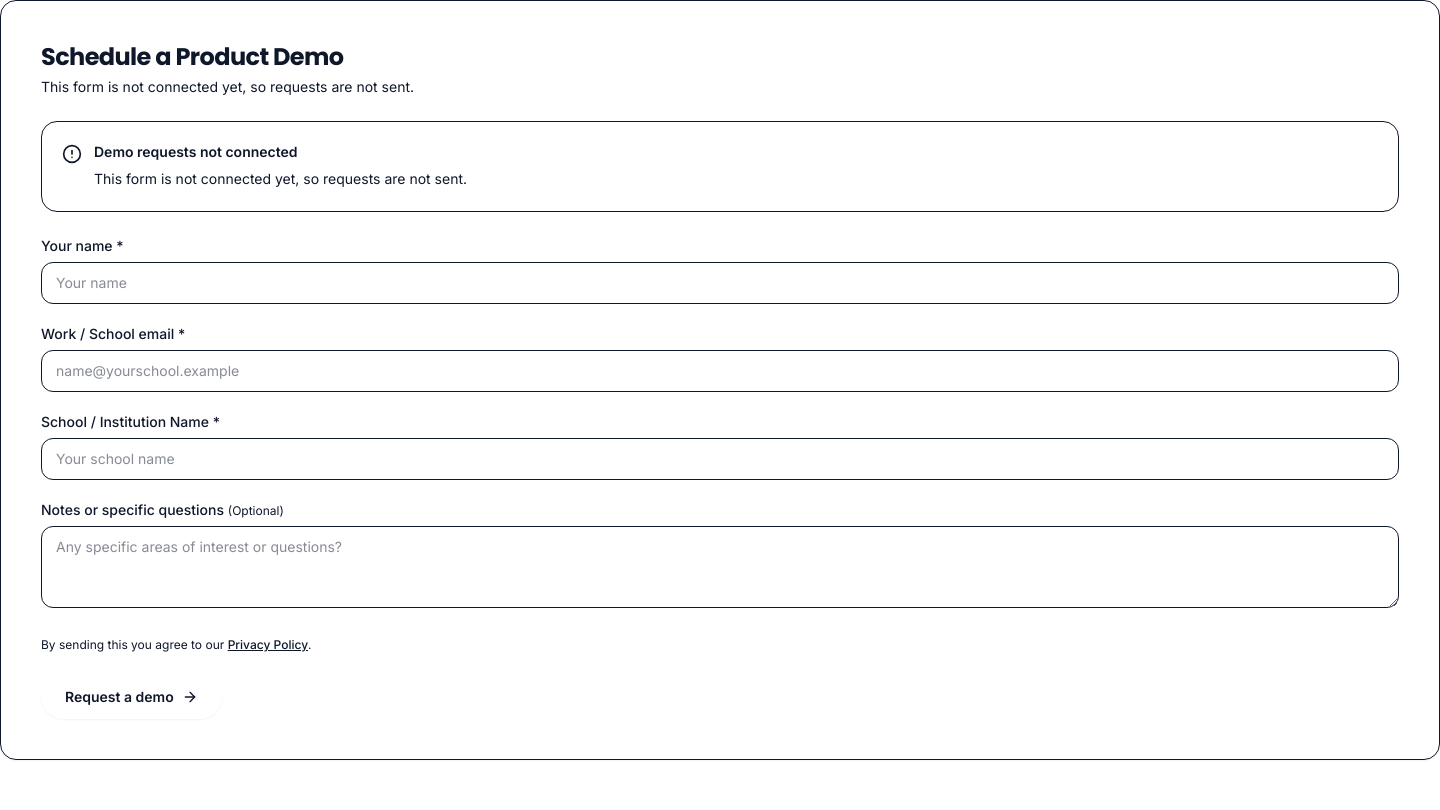
it: Lead Forms Unit Tests (Contact & Demo) › Flag OFF (siteConfig.hasLeadBackend = false) › renders pruned demo form (without phone, city, student count, preferred time)
The width and height of the screenshot is (1440, 810).
Expected: the heading "Schedule a Product Demo" is shown, top-left (41, 40), bottom-right (344, 73)
Expected: the field labelled "Work / School email *" is shown, top-left (41, 350), bottom-right (1399, 392)
// Submit valid demo request
Type "Principal Gupta" into the field labelled "Your name *".
click(720, 283); type("Principal Gupta")  # box top-left (41, 262), bottom-right (1399, 304)
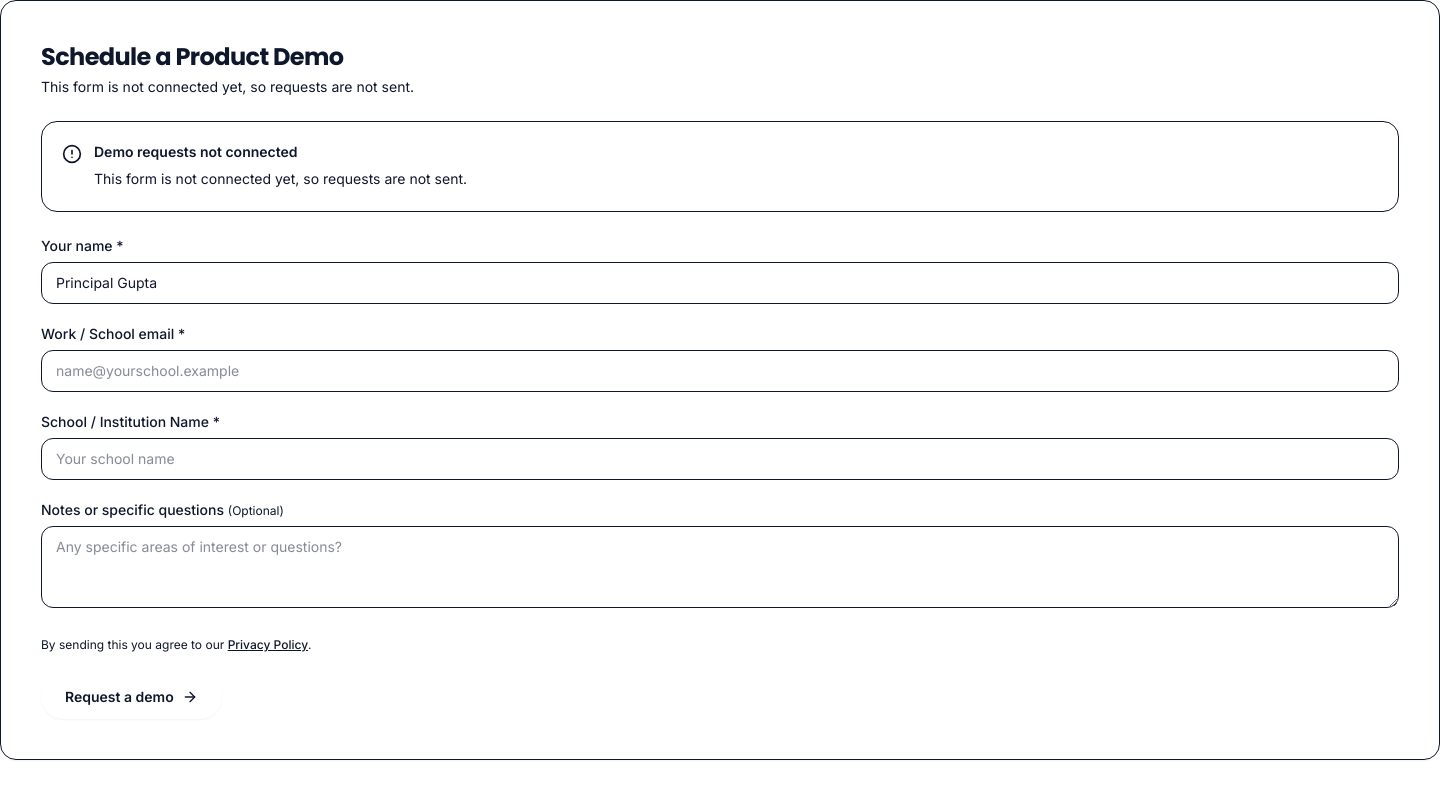
Type "principal@dps.org" into the field labelled "Work / School email *".
click(720, 371); type("principal@dps.org")  # box top-left (41, 350), bottom-right (1399, 392)
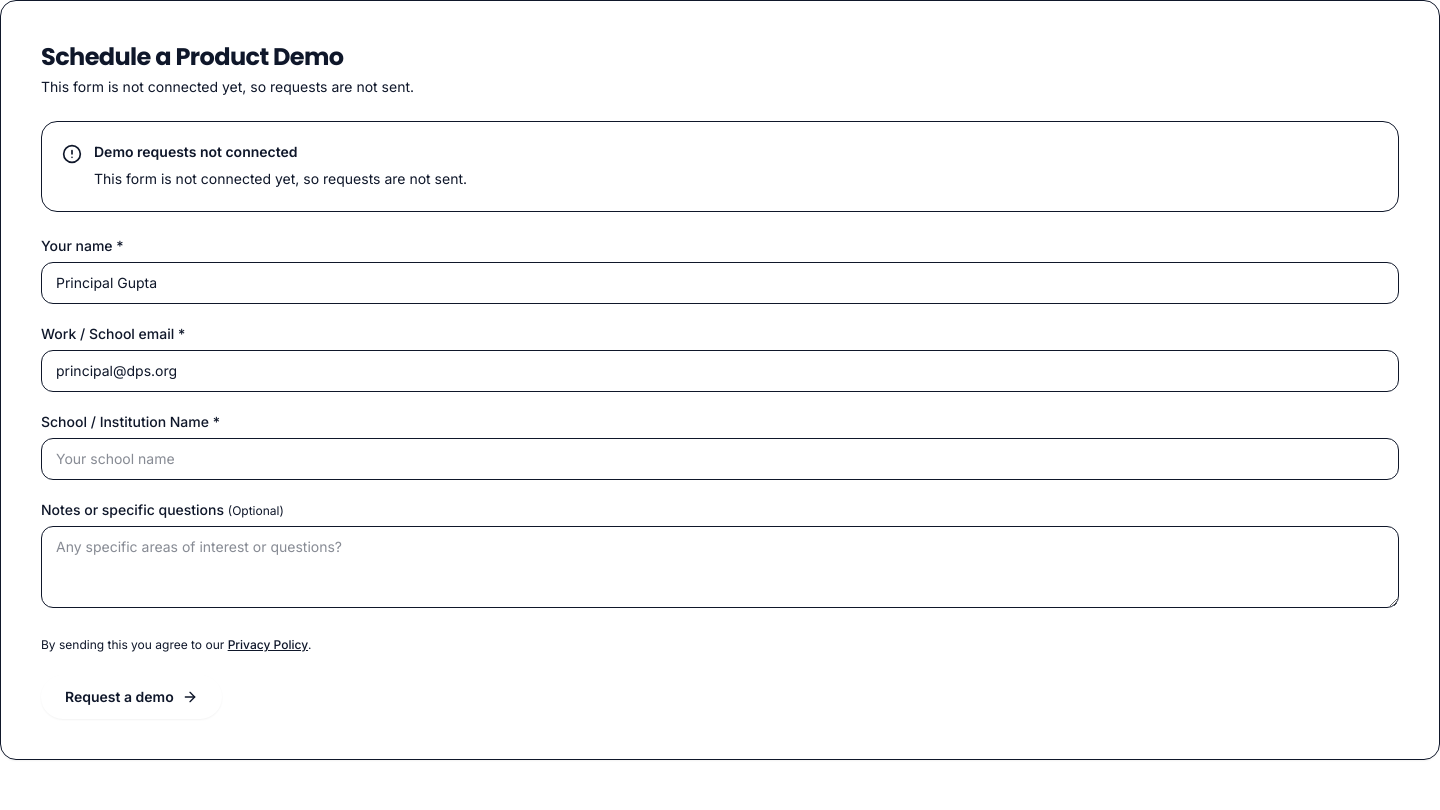
Type "DPS Gurgaon" into the field labelled "School / Institution Name *".
click(720, 459); type("DPS Gurgaon")  # box top-left (41, 438), bottom-right (1399, 480)
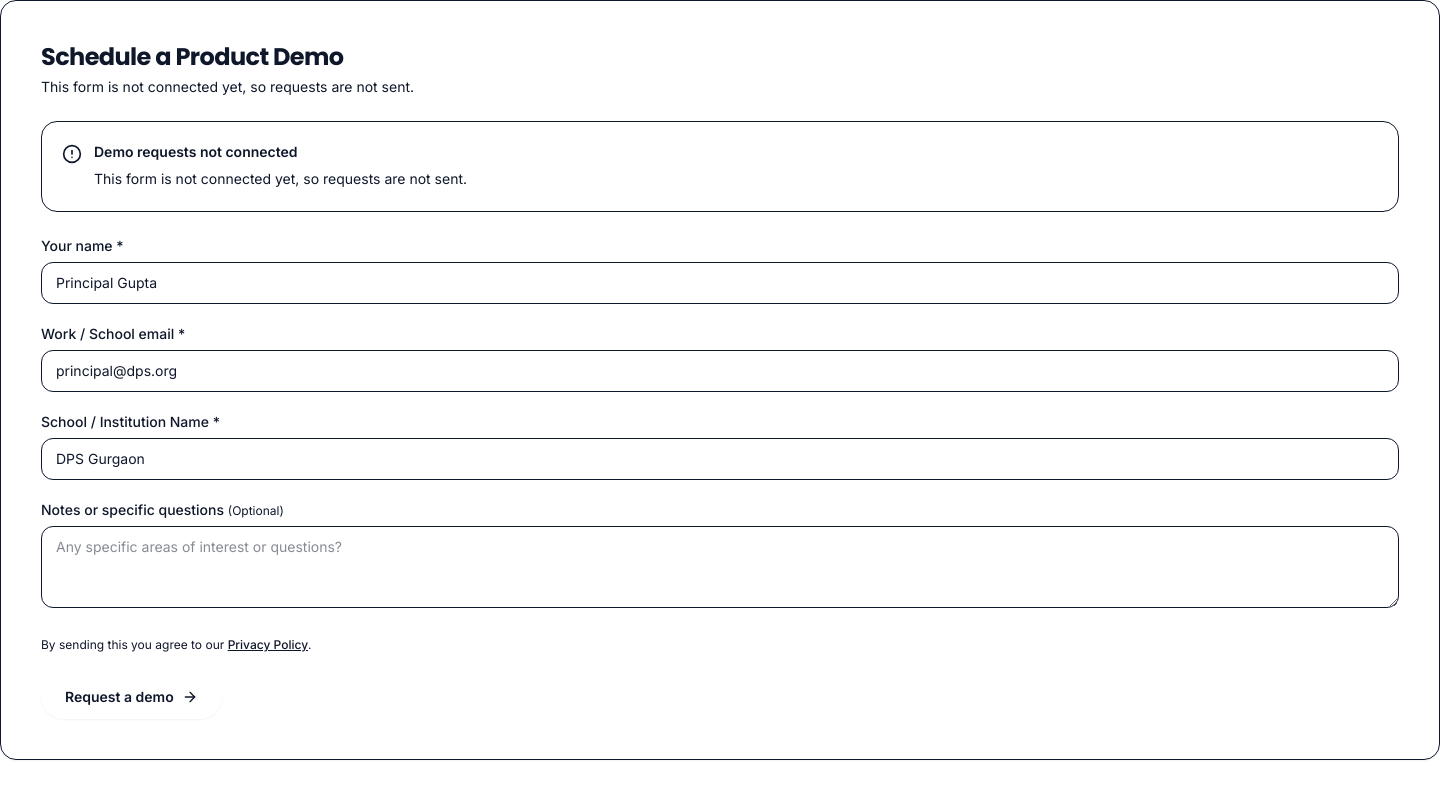
Click the button "Request a demo".
click(131, 697)  # box top-left (41, 675), bottom-right (222, 719)
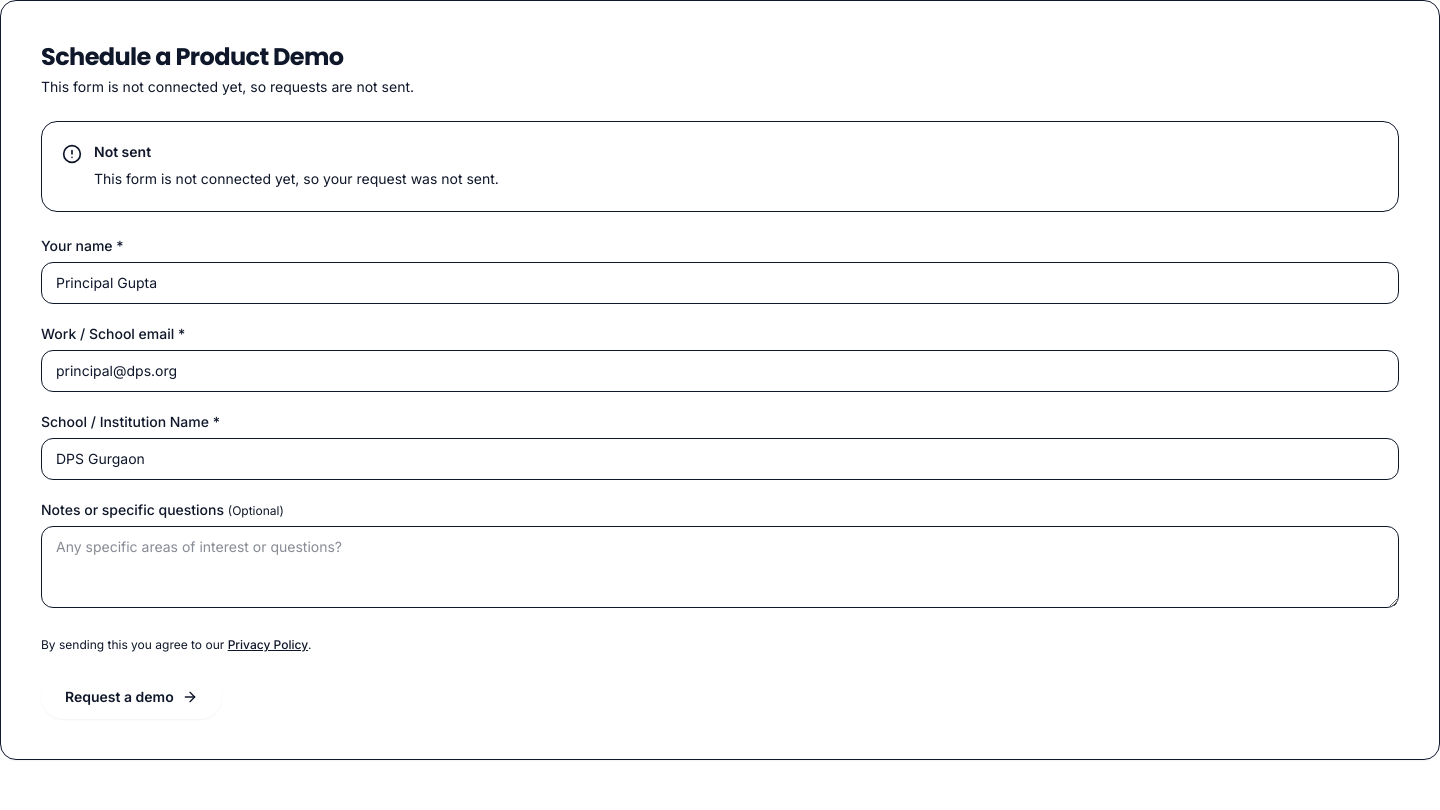
Expected: the message "Not sent This form is not connected yet, so your request was not sent." is shown, top-left (41, 121), bottom-right (1399, 212)
Expected: the text "Not sent" is shown, top-left (94, 143), bottom-right (151, 160)
